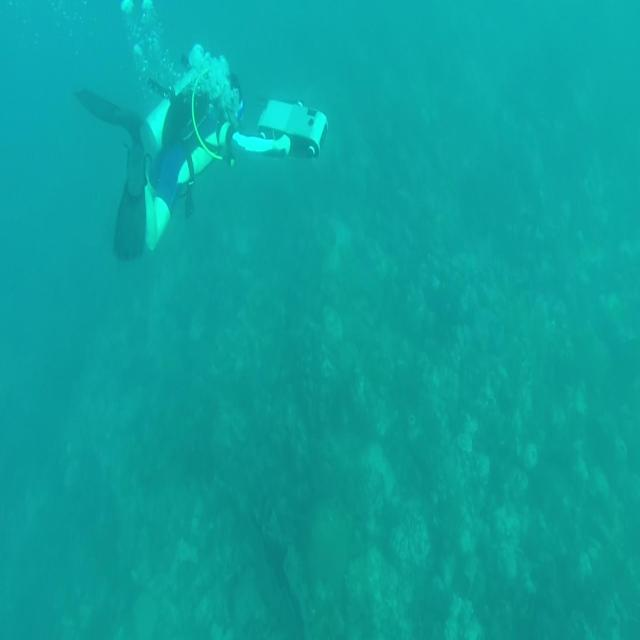human: (74, 43, 326, 262)
